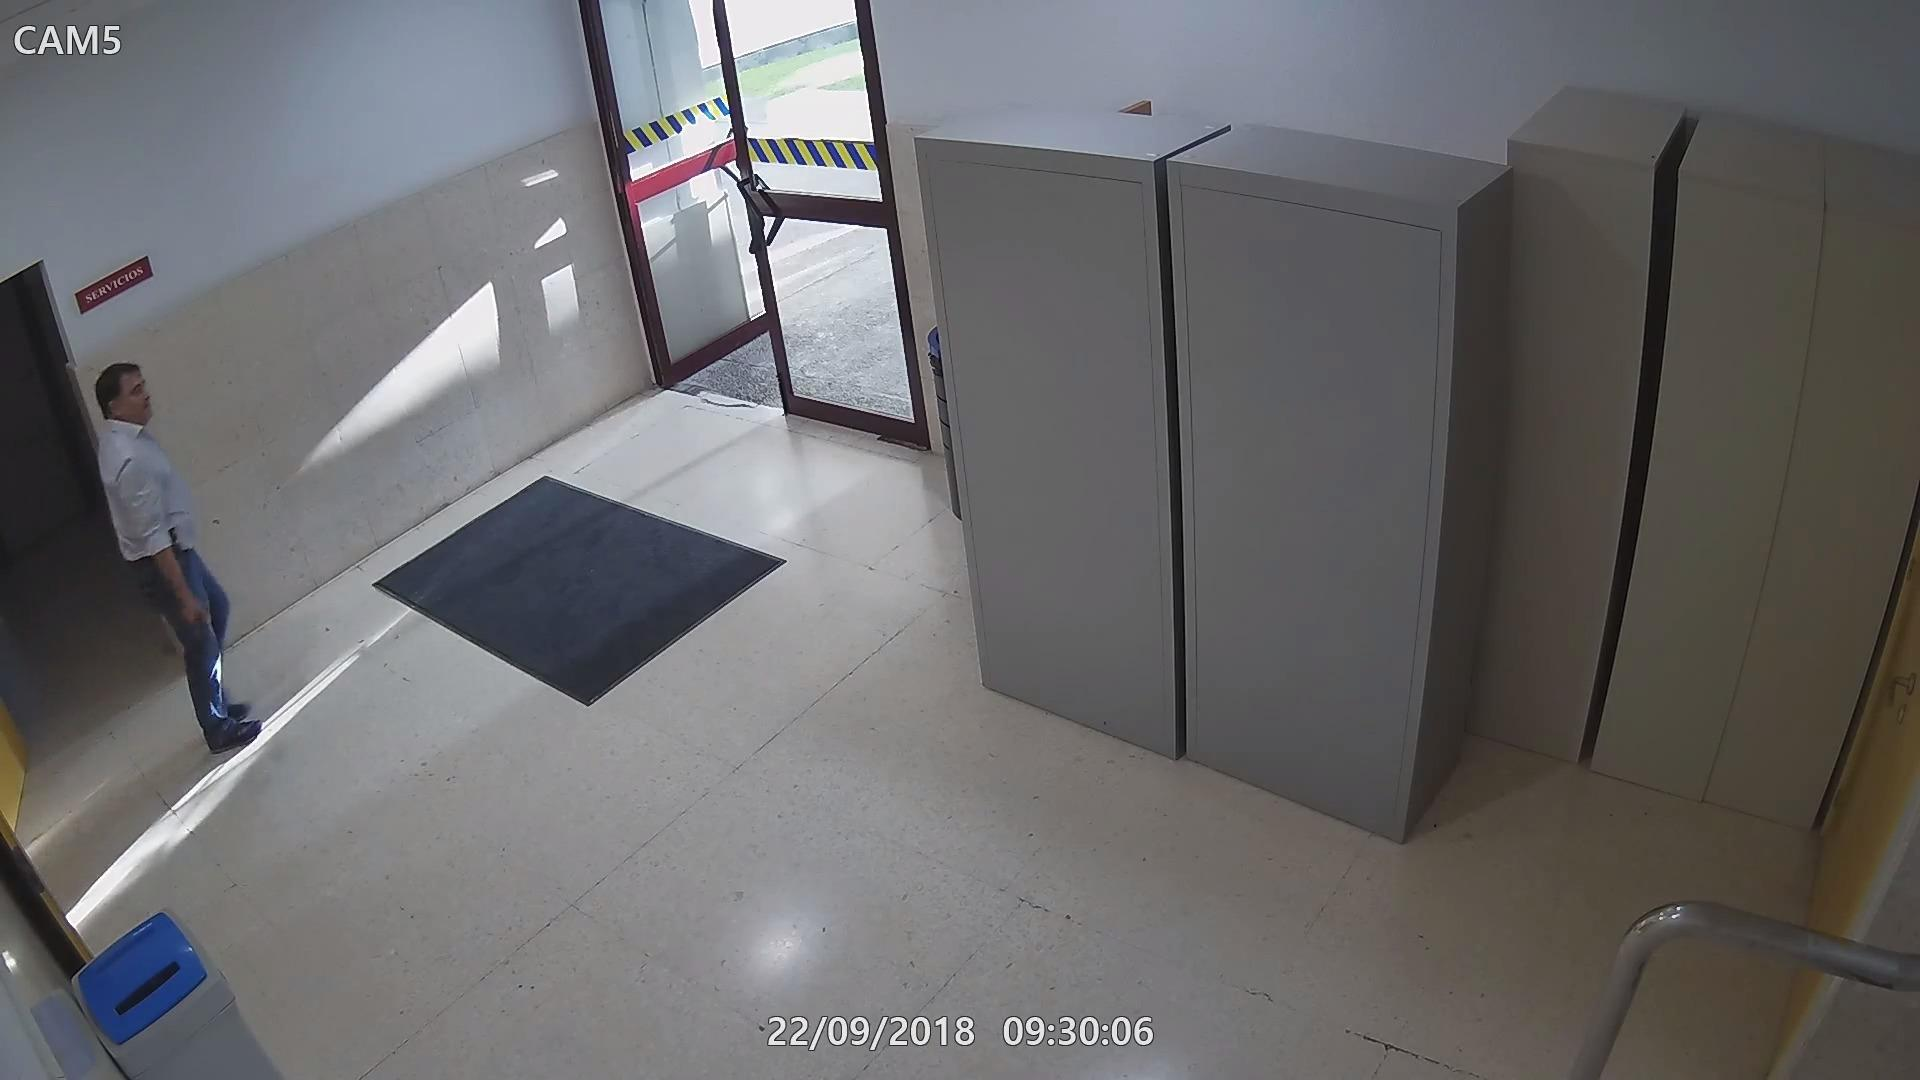Handgun: (173, 596, 219, 647)
